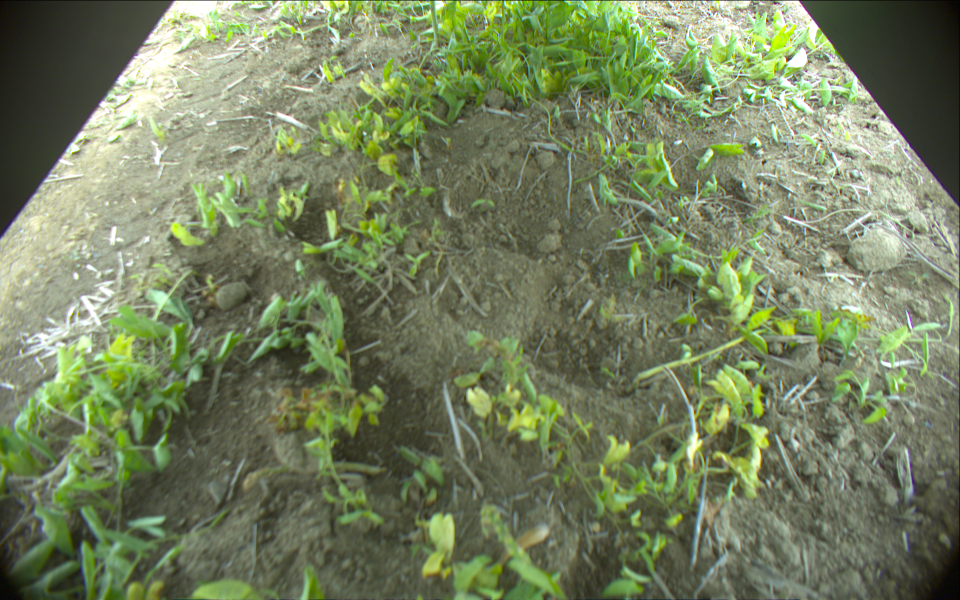aspa: (427, 1, 442, 47)
